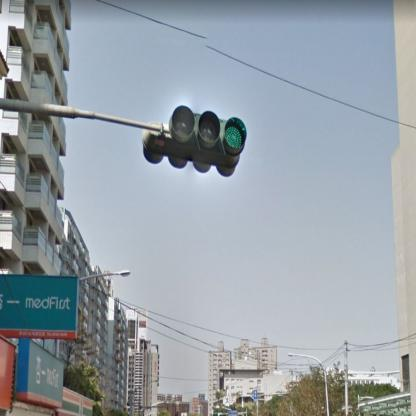Green Light: (166, 104, 247, 158)
